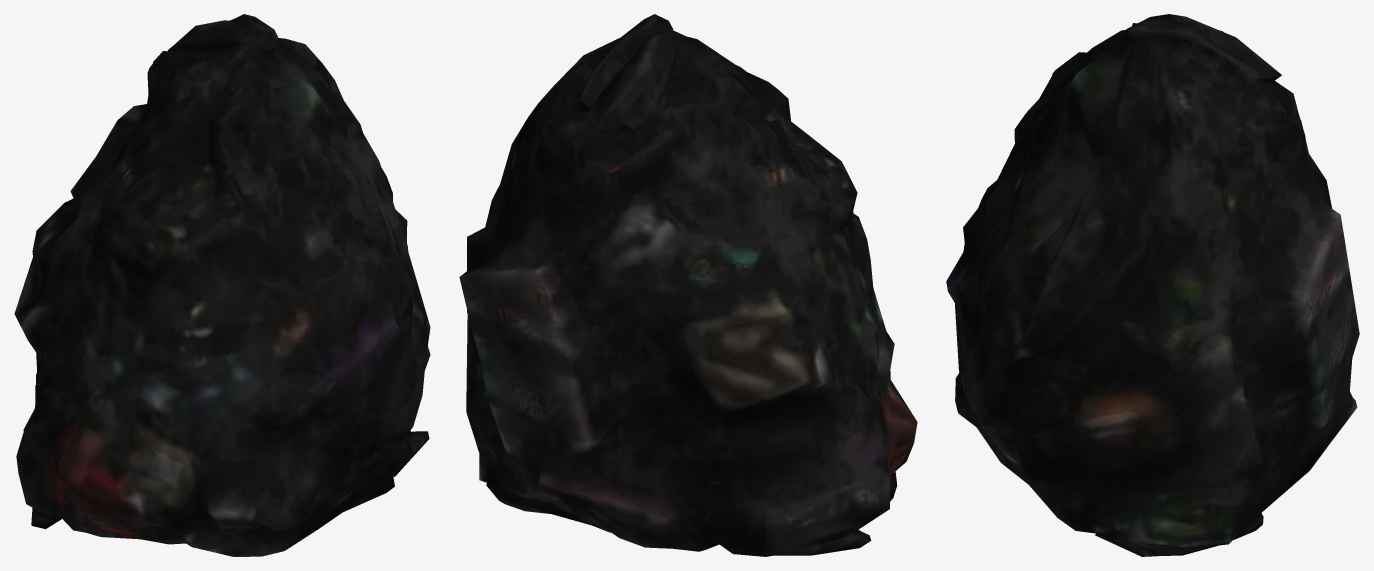
The model's file is trashBag.glb.
The picture shows the model from 3 angles, left to right: view 1: azimuth 30°, elevation 25°; view 2: azimuth 150°, elevation 25°; view 3: azimuth 270°, elevation 25°; orthographic projection. The views are drawn at different scales.
Parts seen in each view (by area): view 1: trashbag; view 2: trashbag; view 3: trashbag.
Part boxes in pixels (x1,y1,x2,y2): trashbag: (14, 14, 430, 556); trashbag: (459, 14, 917, 556); trashbag: (946, 14, 1359, 556).
Size of the model in its own units: 0.5237 by 0.5725 by 0.4629.
1 material, 1 textured.
